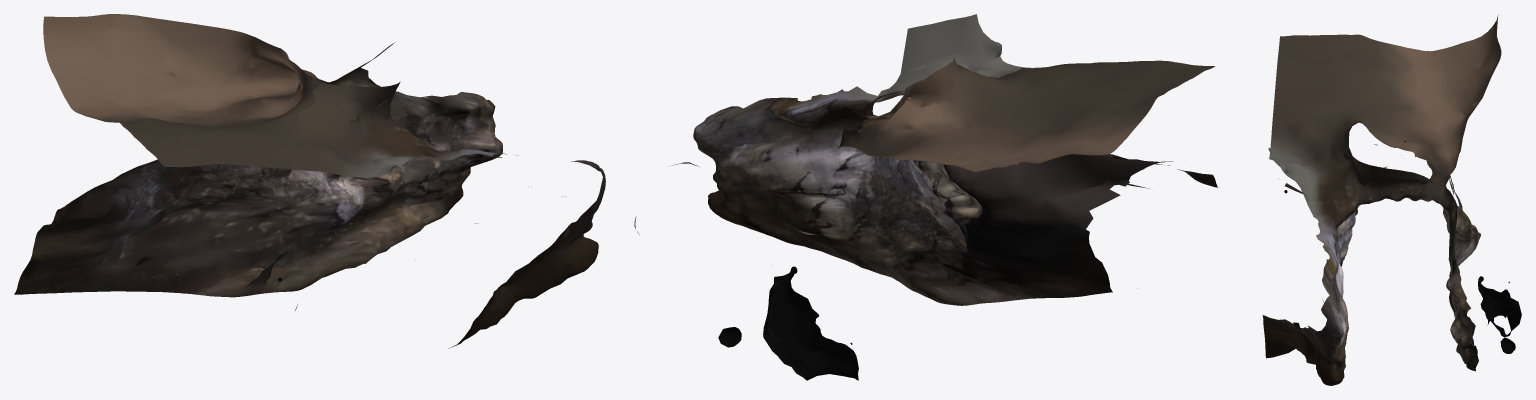
The model's file is cave.gltf.
3 views of the same model, side by side, from view 1: azimuth 30°, elevation 25°; view 2: azimuth 150°, elevation 25°; view 3: azimuth 270°, elevation 25° (orthographic). The views are drawn at different scales.
Parts seen in each view (by area): view 1: mesh1; view 2: mesh1; view 3: mesh1.
Boxes of the visible parts, box(x1,y1,x2,y2) form: mesh1: box(14, 14, 605, 348); mesh1: box(634, 14, 1217, 380); mesh1: box(1262, 15, 1521, 385).
Size of the model in its own units: 293 by 177 by 169.
Materials: 1 (1 with a texture image).
